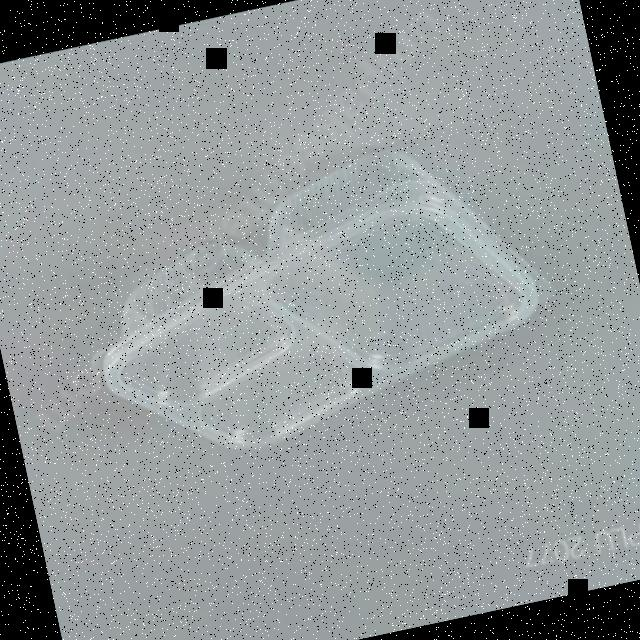plastic_box: (66, 118, 572, 477)
